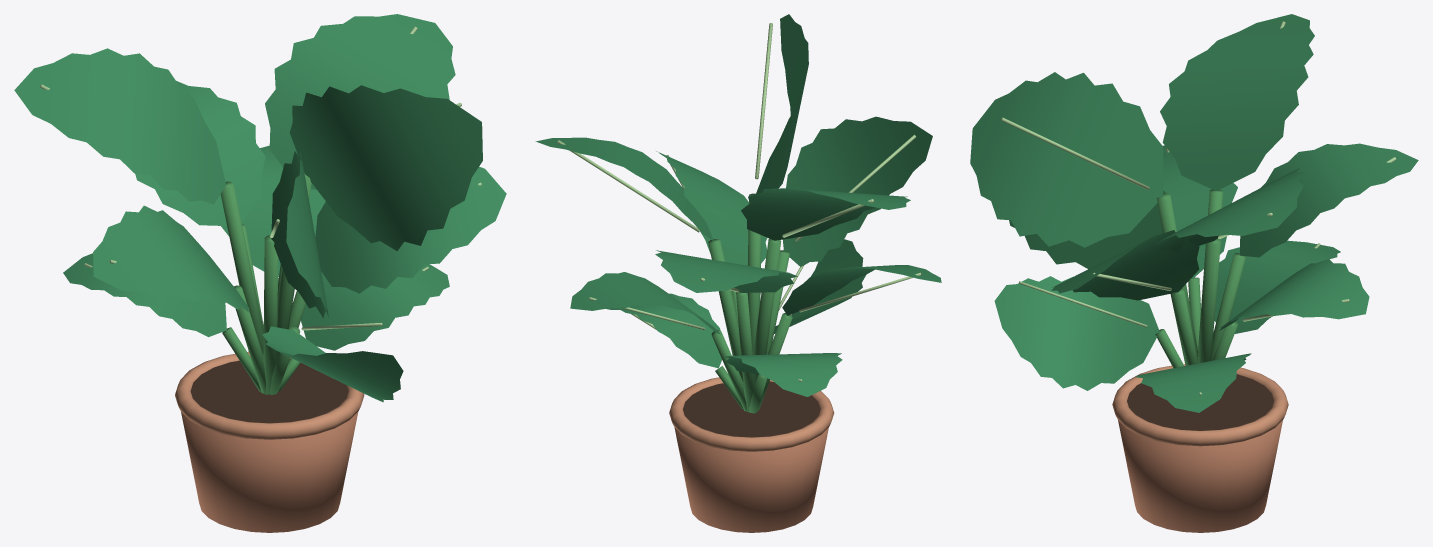
File: monstera_deliciosa.glb
The picture shows the model from 3 angles, left to right: view 1: azimuth 30°, elevation 25°; view 2: azimuth 150°, elevation 25°; view 3: azimuth 270°, elevation 25°; orthographic projection. The views are drawn at different scales.
Visible parts, largest first — view 1: leaf_g760_monstera_10, leaf_g692_monstera_9, pot_static, leaf_g624_monstera_8, leaf_g352_monstera_4, leaf_g420_monstera_5, soil_static, leaf_g488_monstera_6, leaf_g080_monstera_0, leaf_g556_monstera_7, pot_rim_static, leaf_g216_monstera_2 (+7 smaller); view 2: pot_static, leaf_g556_monstera_7, leaf_g692_monstera_9, soil_static, leaf_g420_monstera_5, leaf_g488_monstera_6, pot_rim_static, leaf_g624_monstera_8, leaf_g760_monstera_10, leaf_g148_monstera_1, leaf_g284_monstera_3, leaf_g080_monstera_0 (+11 smaller); view 3: leaf_g760_monstera_10, leaf_g692_monstera_9, pot_static, leaf_g216_monstera_2, leaf_g488_monstera_6, leaf_g420_monstera_5, leaf_g284_monstera_3, leaf_g624_monstera_8, soil_static, leaf_g148_monstera_1, pot_rim_static, leaf_g080_monstera_0 (+8 smaller).
Part boxes in pixels (x1=…): leaf_g760_monstera_10: x1=289, y1=85, x2=482, y2=251; leaf_g692_monstera_9: x1=14, y1=48, x2=225, y2=204; pot_static: x1=181, y1=412, x2=358, y2=532; leaf_g624_monstera_8: x1=265, y1=14, x2=455, y2=189; leaf_g352_monstera_4: x1=93, y1=205, x2=249, y2=312; leaf_g420_monstera_5: x1=315, y1=166, x2=506, y2=293; soil_static: x1=190, y1=359, x2=348, y2=423; leaf_g488_monstera_6: x1=135, y1=81, x2=265, y2=225; leaf_g080_monstera_0: x1=301, y1=264, x2=449, y2=350; leaf_g556_monstera_7: x1=271, y1=150, x2=328, y2=317; pot_rim_static: x1=175, y1=351, x2=364, y2=439; leaf_g216_monstera_2: x1=262, y1=326, x2=403, y2=402; pot_static: x1=674, y1=427, x2=828, y2=532; leaf_g556_monstera_7: x1=783, y1=116, x2=932, y2=266; leaf_g692_monstera_9: x1=741, y1=188, x2=910, y2=240; soil_static: x1=683, y1=381, x2=820, y2=437; leaf_g420_monstera_5: x1=656, y1=151, x2=767, y2=265; leaf_g488_monstera_6: x1=655, y1=250, x2=797, y2=292; pot_rim_static: x1=669, y1=377, x2=834, y2=451; leaf_g624_monstera_8: x1=535, y1=137, x2=713, y2=240; leaf_g760_monstera_10: x1=756, y1=14, x2=808, y2=194; leaf_g148_monstera_1: x1=725, y1=353, x2=842, y2=396; leaf_g284_monstera_3: x1=570, y1=272, x2=720, y2=334; leaf_g080_monstera_0: x1=606, y1=293, x2=721, y2=368; leaf_g760_monstera_10: x1=970, y1=72, x2=1163, y2=247; leaf_g692_monstera_9: x1=1160, y1=14, x2=1314, y2=190; pot_static: x1=1118, y1=420, x2=1282, y2=532; leaf_g216_monstera_2: x1=994, y1=276, x2=1159, y2=390; leaf_g488_monstera_6: x1=1240, y1=143, x2=1418, y2=257; leaf_g420_monstera_5: x1=1051, y1=230, x2=1199, y2=300; leaf_g284_monstera_3: x1=1219, y1=259, x2=1369, y2=330; leaf_g624_monstera_8: x1=1154, y1=167, x2=1304, y2=252; soil_static: x1=1127, y1=374, x2=1273, y2=430; leaf_g148_monstera_1: x1=1214, y1=240, x2=1340, y2=333; pot_rim_static: x1=1112, y1=364, x2=1288, y2=446; leaf_g080_monstera_0: x1=1135, y1=353, x2=1251, y2=412.
Bounding box in the file's own units: 0.9842 × 1.08 × 0.9913.
